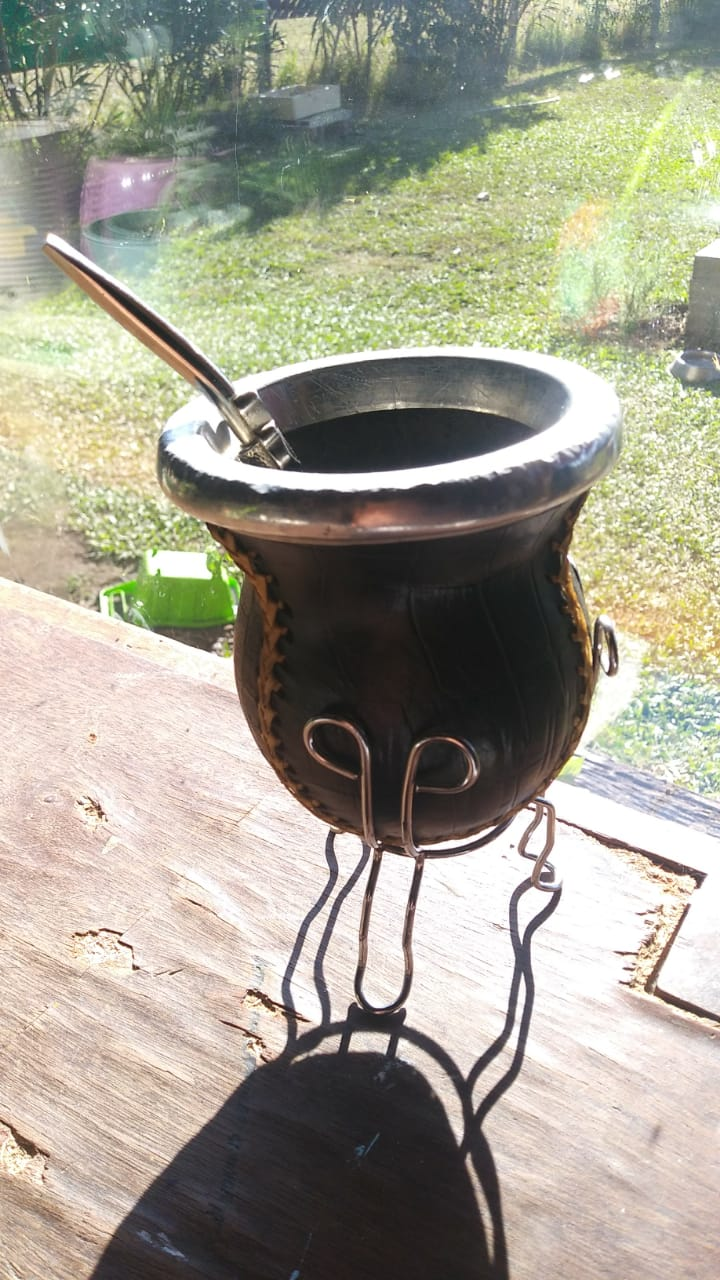mate: (148, 349, 622, 862)
